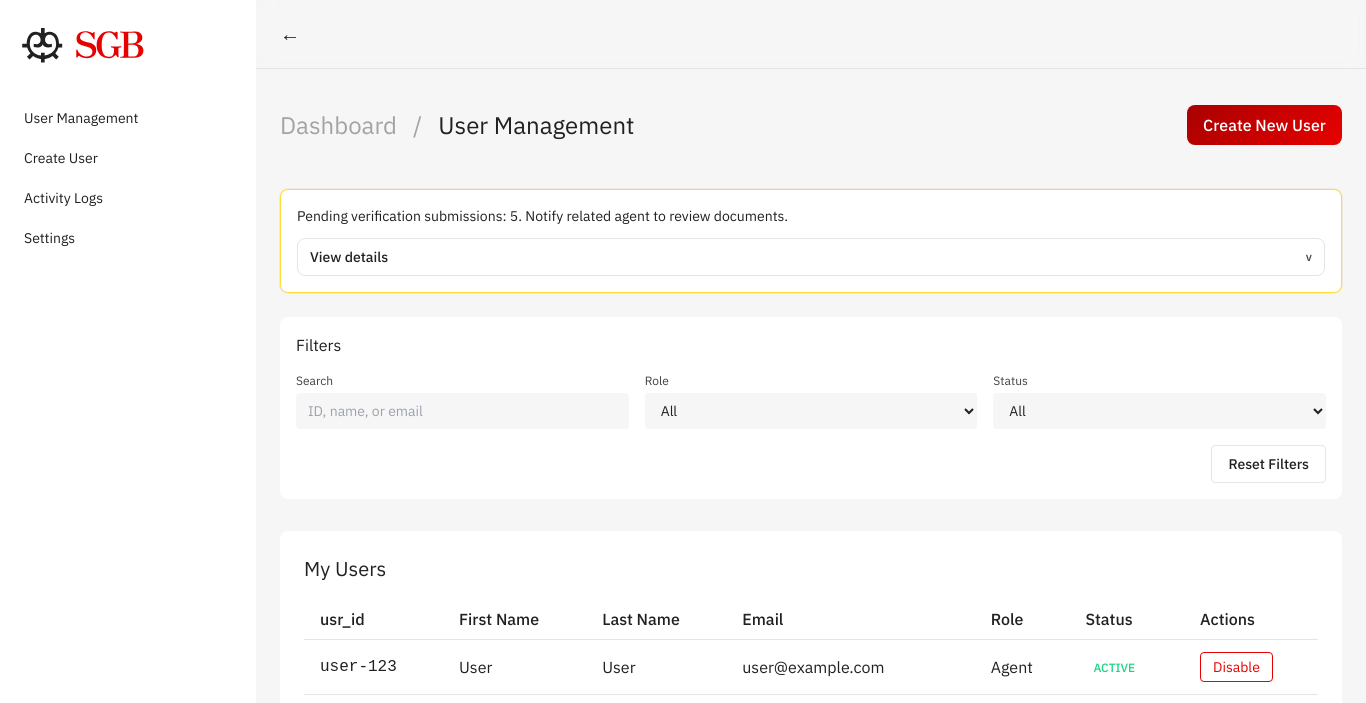
Test: AdminUserManagementPage › should show pending verification breakdown for admin users
This screenshot has width=1366, height=703.
Expected: the text "Pending verification submissions: 5." is shown, [297,207,788,225]
Expected: the text "View details" is shown, [310,247,388,267]
Click the button "View details v" at (349, 257), box [310,247,1312,267]
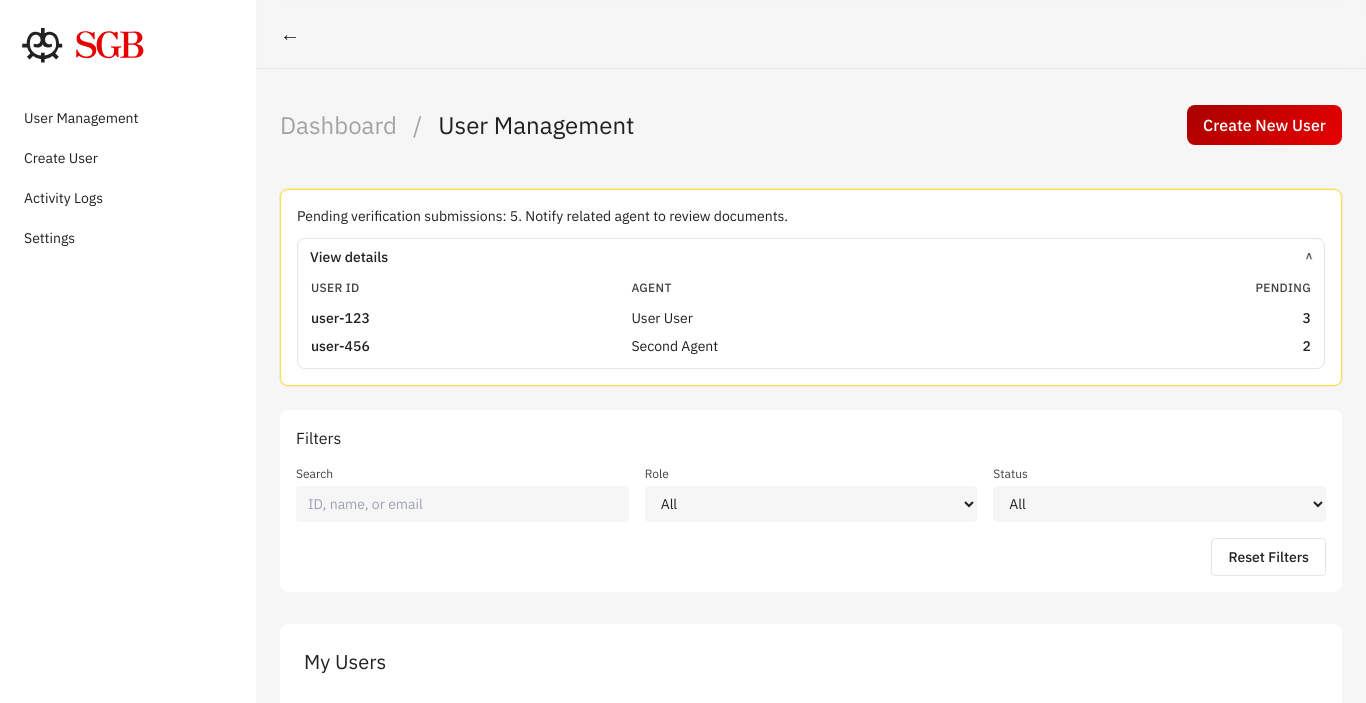
Now the column heading "User ID" is shown, box [310,279,630,304]
Now the column heading "Agent" is shown, box [630,279,1069,304]
Now the column heading "Pending" is shown, box [1069,279,1312,304]
